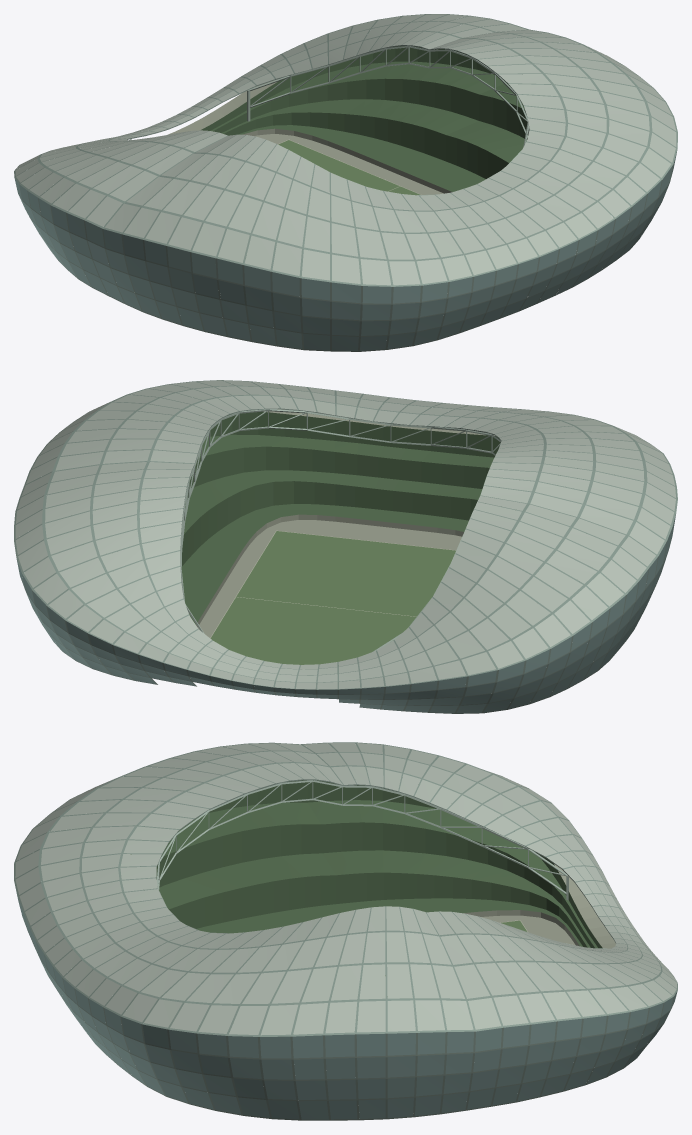
The model's file is aviva-stadium-far.glb.
3 renders of one model, top to bottom at view 1: azimuth 30°, elevation 25°; view 2: azimuth 150°, elevation 25°; view 3: azimuth 270°, elevation 25°, orthographic. The views are drawn at different scales.
Visible parts, largest first — view 1: aviva-stadium-0-shingle, aviva-stadium-0-glass, aviva-stadium-0-seats, aviva-stadium-0-frame, aviva-stadium-0-concrete, aviva-stadium-0-steel, aviva-stadium-0-pitch; view 2: aviva-stadium-0-shingle, aviva-stadium-0-seats, aviva-stadium-0-frame, aviva-stadium-0-pitch, aviva-stadium-0-glass, aviva-stadium-0-concrete, aviva-stadium-0-steel; view 3: aviva-stadium-0-shingle, aviva-stadium-0-seats, aviva-stadium-0-glass, aviva-stadium-0-frame, aviva-stadium-0-steel, aviva-stadium-0-concrete.
Boxes of the visible parts, box(x1,y1,x2,y2) form: aviva-stadium-0-shingle: box(15, 14, 676, 285); aviva-stadium-0-glass: box(14, 152, 676, 350); aviva-stadium-0-seats: box(201, 46, 529, 191); aviva-stadium-0-frame: box(14, 14, 677, 351); aviva-stadium-0-concrete: box(167, 79, 602, 194); aviva-stadium-0-steel: box(129, 46, 529, 195); aviva-stadium-0-pitch: box(278, 140, 420, 195); aviva-stadium-0-shingle: box(15, 380, 675, 689); aviva-stadium-0-seats: box(181, 411, 500, 624); aviva-stadium-0-frame: box(14, 380, 677, 713); aviva-stadium-0-pitch: box(210, 531, 455, 664); aviva-stadium-0-glass: box(16, 514, 675, 713); aviva-stadium-0-concrete: box(196, 409, 494, 637); aviva-stadium-0-steel: box(180, 409, 501, 651); aviva-stadium-0-shingle: box(15, 743, 676, 1035); aviva-stadium-0-seats: box(130, 780, 602, 948); aviva-stadium-0-glass: box(15, 885, 677, 1119); aviva-stadium-0-frame: box(14, 742, 677, 1120); aviva-stadium-0-steel: box(157, 780, 606, 950); aviva-stadium-0-concrete: box(464, 864, 615, 948).
Size of the model in its own units: 217 by 50 by 204.
